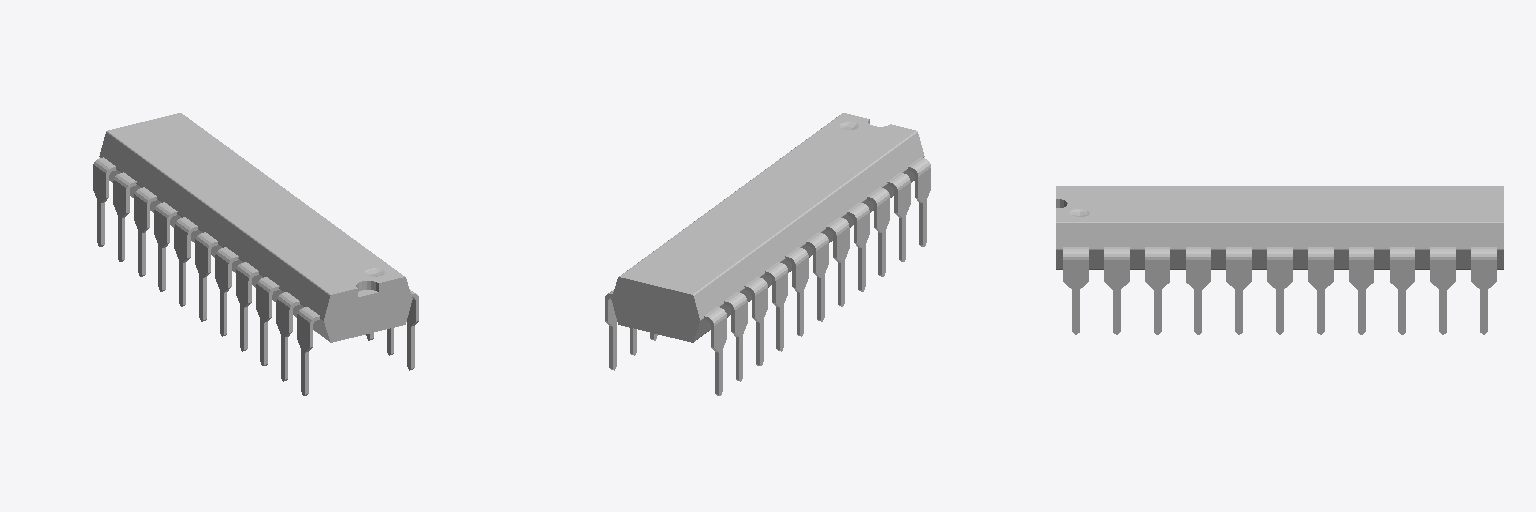
The picture shows the model from 3 angles: view 1: azimuth 30°, elevation 25°; view 2: azimuth 150°, elevation 25°; view 3: azimuth 270°, elevation 25°; orthographic projection.
Parts seen in each view (by area): view 1: Volumenkörper1; view 2: Volumenkörper1; view 3: Volumenkörper1.
Boxes of the visible parts, <box> form: Volumenkörper1: <box>93,113,418,395</box>; Volumenkörper1: <box>605,113,930,395</box>; Volumenkörper1: <box>1056,186,1503,334</box>.
Size of the model in its own units: 7.87 by 7.17 by 27.94.